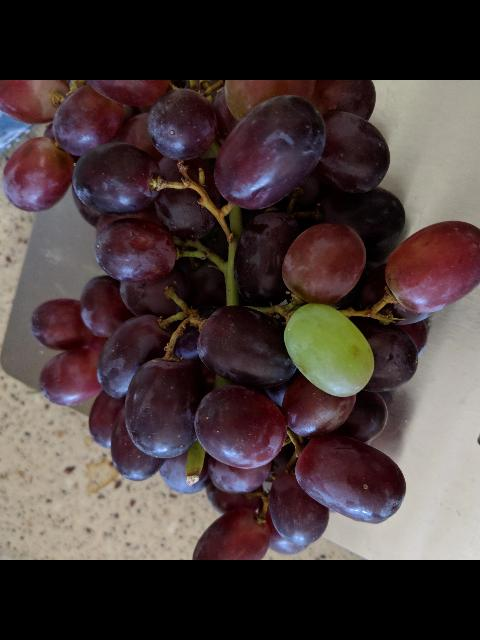Grapes: (0, 80, 480, 557)
